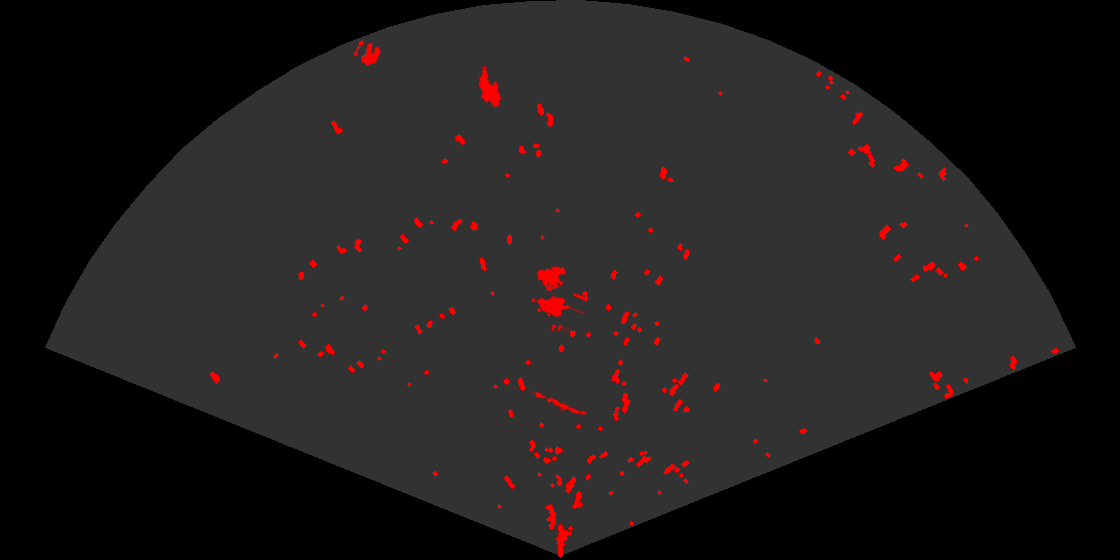AUV: (477, 67, 503, 109)
ball: (352, 39, 382, 68)
cage: (530, 265, 585, 331)
chain: (529, 388, 588, 417)
